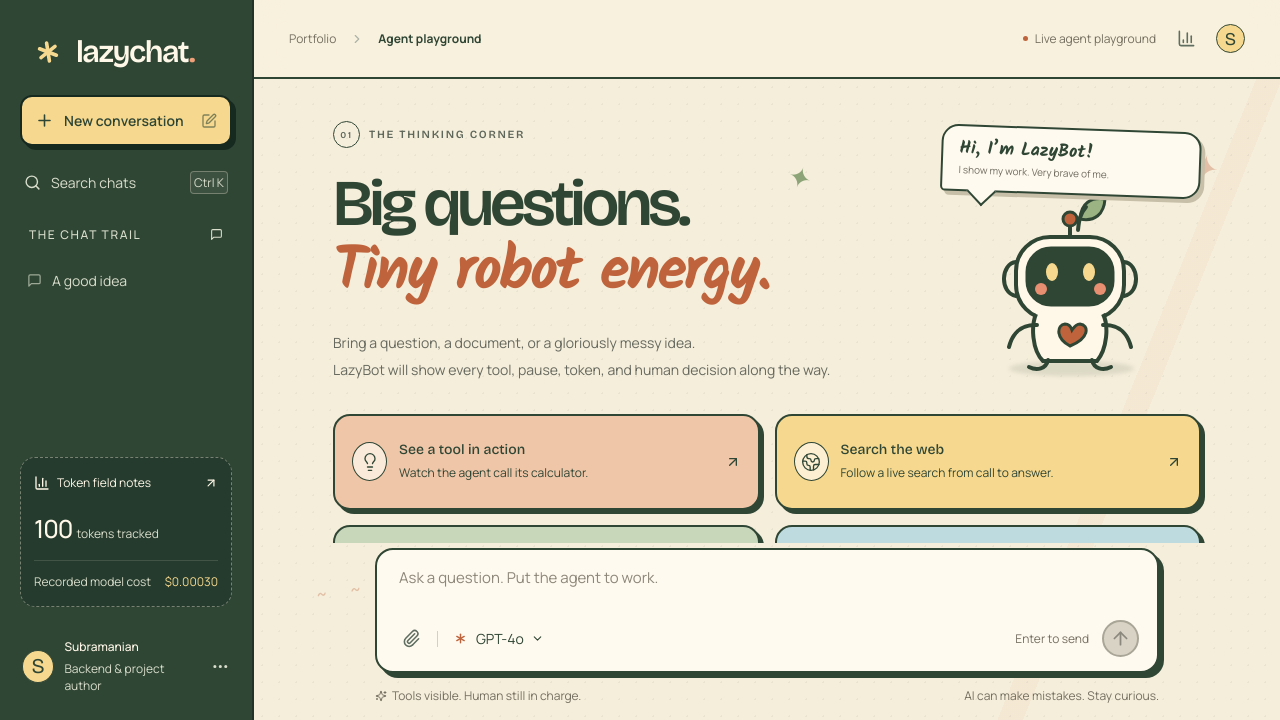
Test: workspace interactions › restores saved history and starts a clean new conversation
Click the button "A good idea" at (126, 280), box [15,258,237,303]
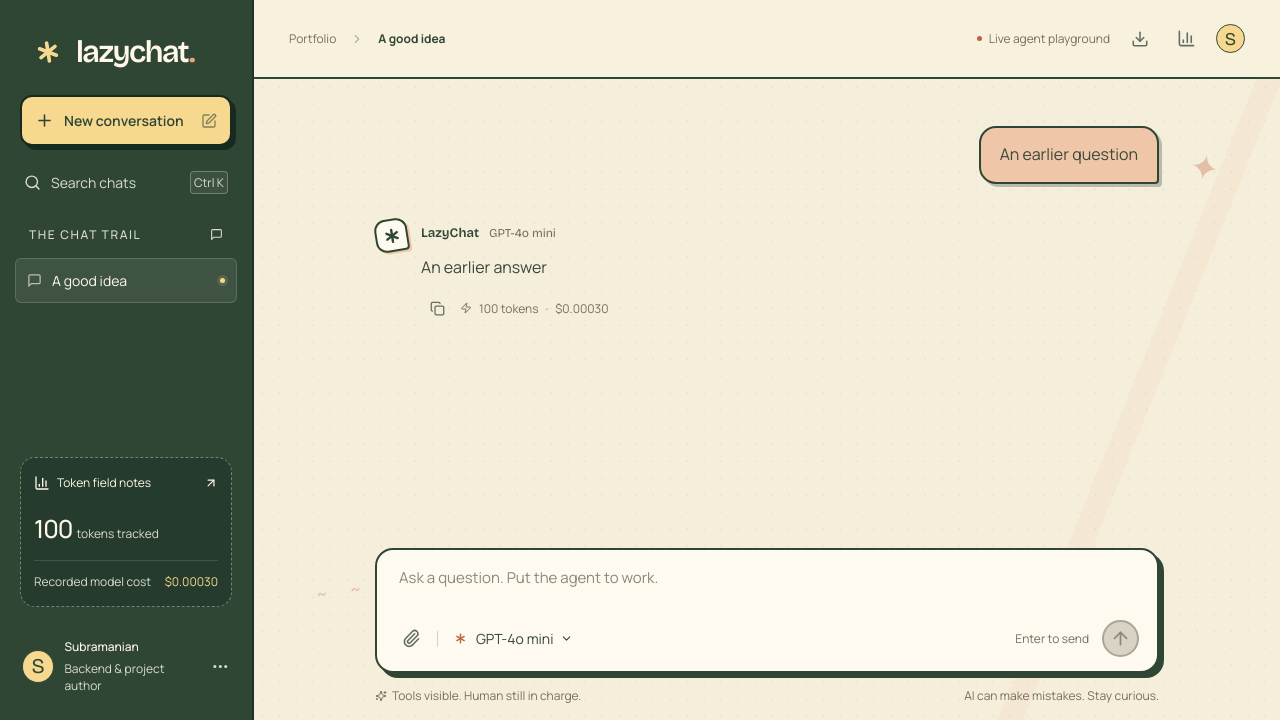
Now the text "An earlier answer" is shown, box [421,256,547,278]
Now the button "GPT-4o mini" is shown, box [448,622,577,655]
Click the button "New conversation" at (126, 120), box [20,95,232,146]
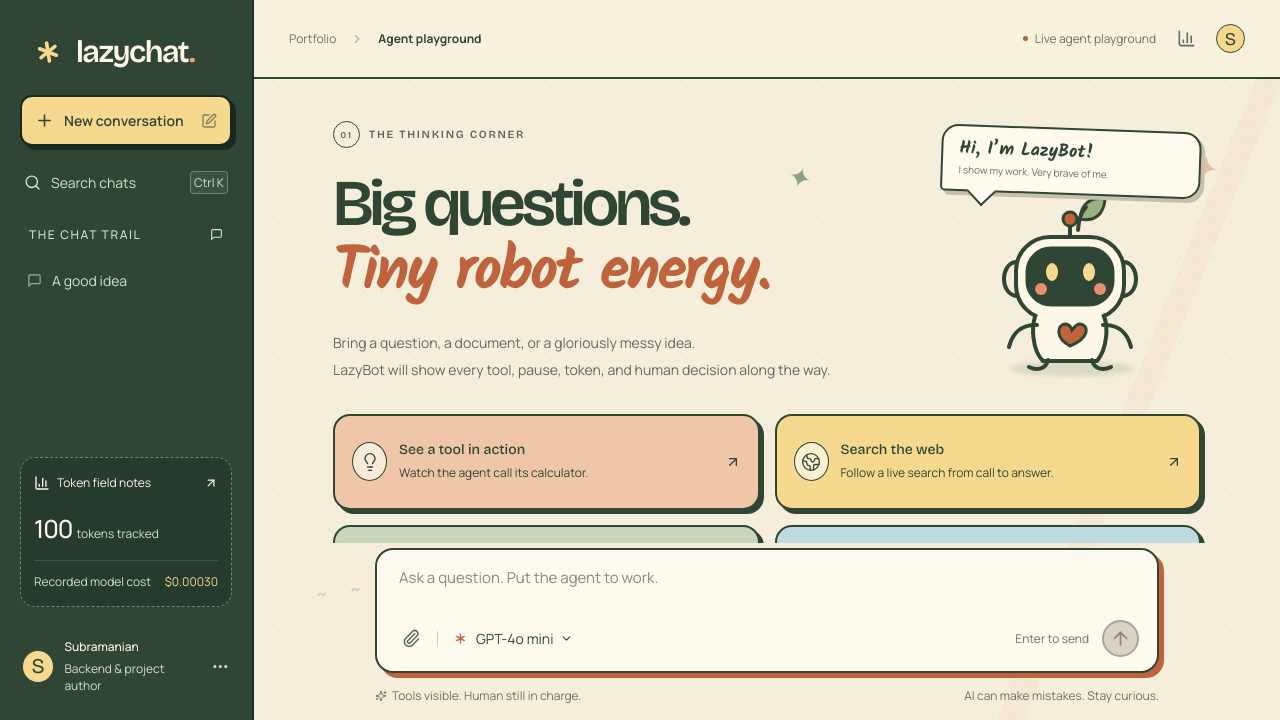
Now the text "An earlier answer" is gone
